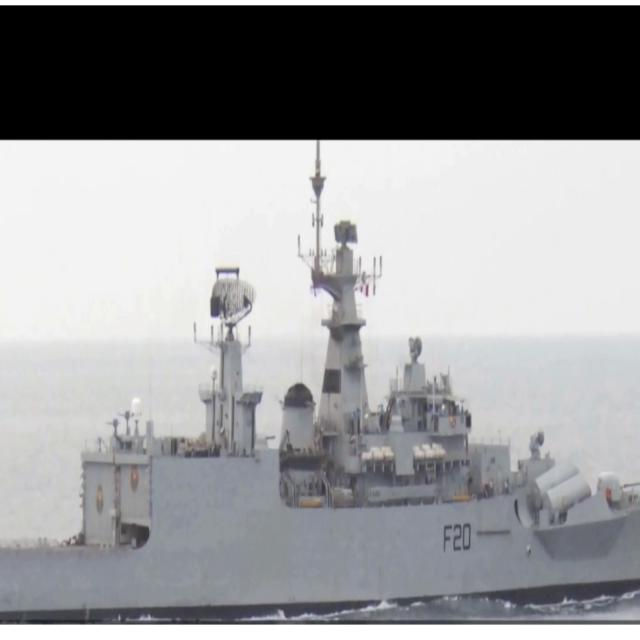OCR: (437, 516, 472, 558)
